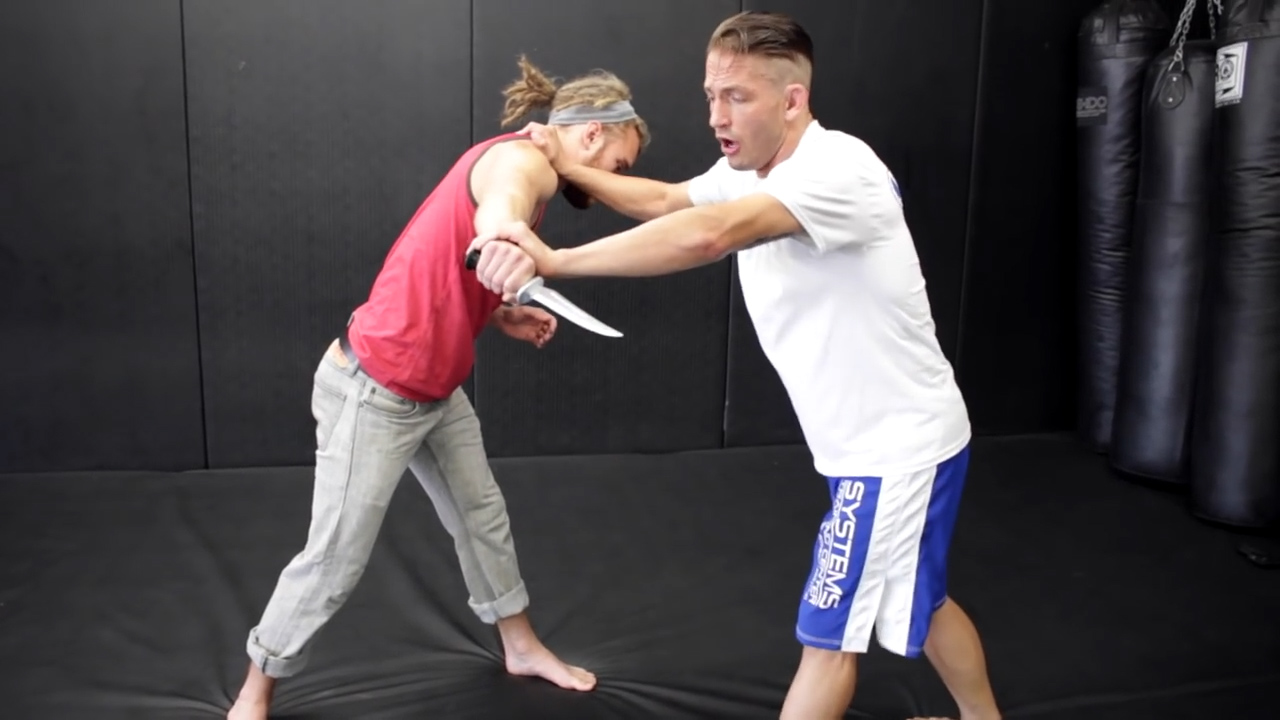knife: (459, 242, 633, 350)
